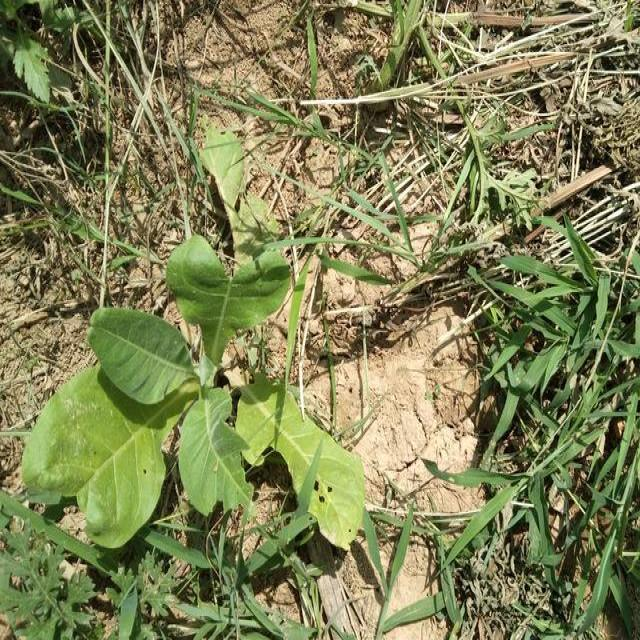crop: (27, 234, 355, 553)
